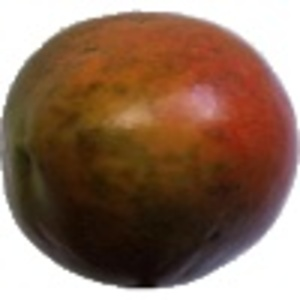manga: (1, 11, 300, 289)
